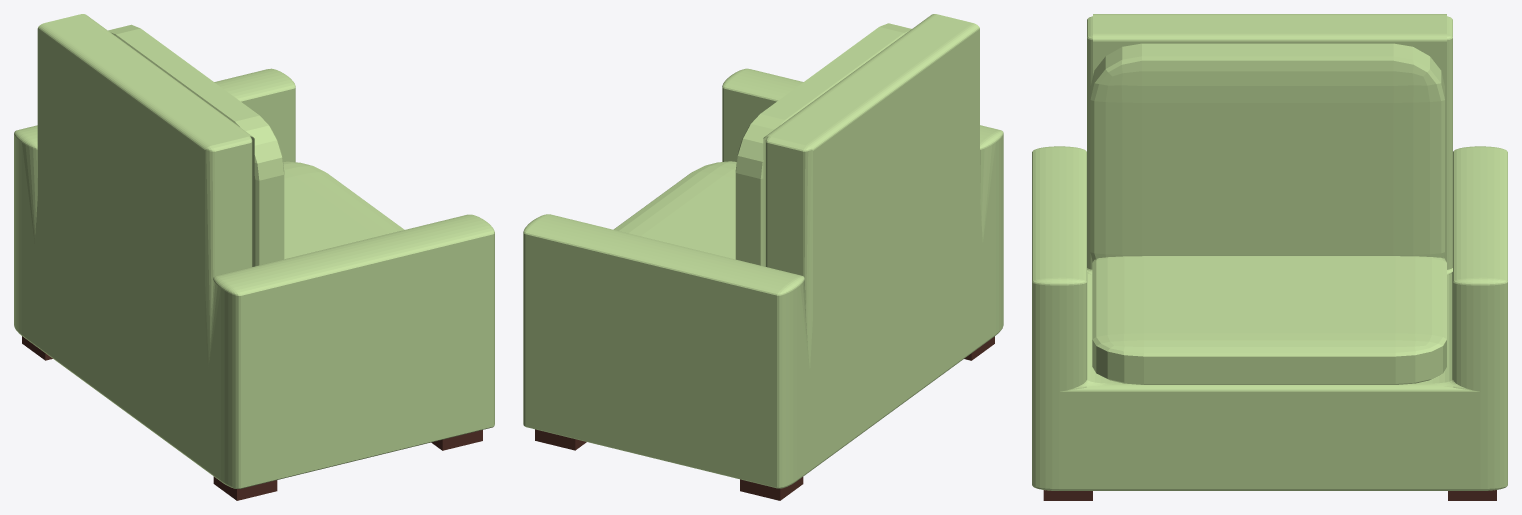
The model's file is sillon.fbx.
3 renders of one model, left to right at view 1: azimuth 30°, elevation 25°; view 2: azimuth 150°, elevation 25°; view 3: azimuth 270°, elevation 25°, orthographic. The views are drawn at different scales.
Parts seen in each view (by area): view 1: sillon, cojin respaldo, coji abajo, patas; view 2: sillon, cojin respaldo, coji abajo, patas; view 3: sillon, cojin respaldo, coji abajo, patas.
Part boxes in pixels (x1=…): sillon: x1=14, y1=14, x2=494, y2=488; cojin respaldo: x1=108, y1=24, x2=284, y2=266; coji abajo: x1=283, y1=161, x2=404, y2=259; patas: x1=22, y1=336, x2=482, y2=500; sillon: x1=523, y1=14, x2=1003, y2=488; cojin respaldo: x1=735, y1=23, x2=911, y2=265; coji abajo: x1=614, y1=161, x2=736, y2=259; patas: x1=535, y1=336, x2=994, y2=500; sillon: x1=1032, y1=14, x2=1507, y2=490; cojin respaldo: x1=1090, y1=43, x2=1444, y2=261; coji abajo: x1=1092, y1=256, x2=1446, y2=384; patas: x1=1043, y1=490, x2=1496, y2=500.
Size of the model in its own units: 248 by 301 by 363.
